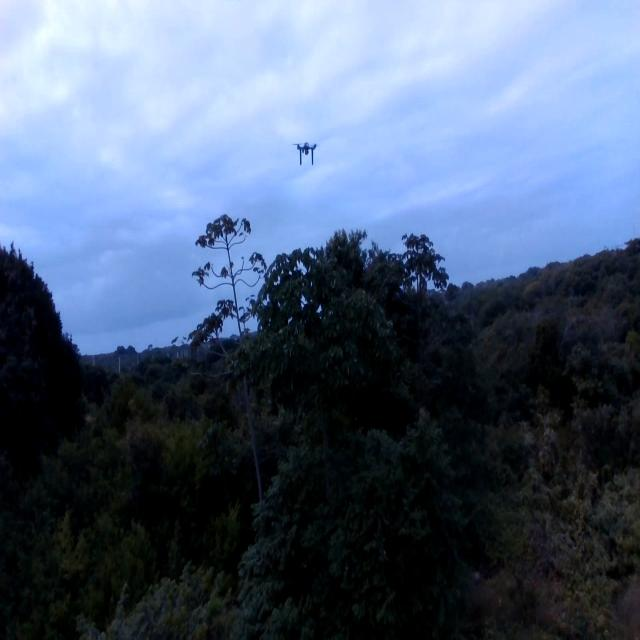-uav-: (282, 123, 326, 181)
